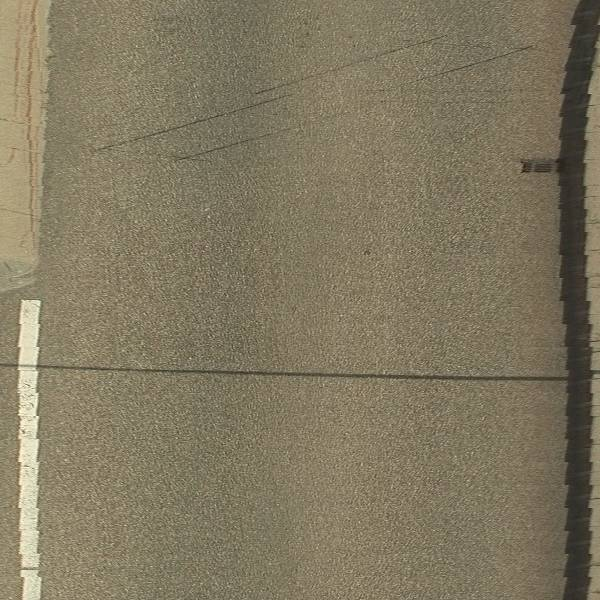road_damage: (84, 25, 539, 183)
